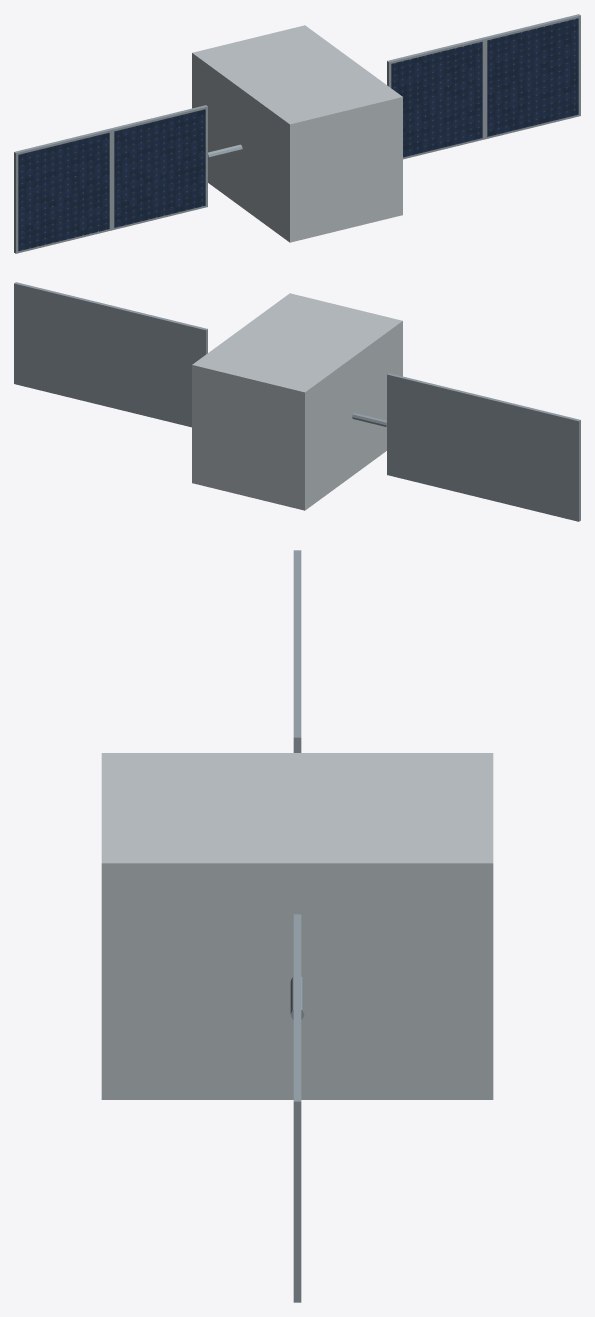
File: ref-bcp-2000-25789.glb
3 views of the same model, one above another, from view 1: azimuth 30°, elevation 25°; view 2: azimuth 150°, elevation 25°; view 3: azimuth 270°, elevation 25° (orthographic). The views are drawn at different scales.
Visible parts, largest first — view 1: Photovoltaic laminates (×4), Spacecraft body, Array frame (×4); view 2: Array frame (×4), Spacecraft body; view 3: Spacecraft body, Array frame (×2).
Boxes of the visible parts, x1,y1,x2,y2 form: Photovoltaic laminates (×4): [18, 18, 578, 251]; Spacecraft body: [192, 25, 402, 242]; Array frame (×4): [14, 14, 580, 253]; Array frame (×4): [14, 282, 580, 521]; Spacecraft body: [192, 293, 402, 510]; Spacecraft body: [101, 753, 493, 1099]; Array frame (×2): [293, 644, 301, 1302].
Bounding box in the file's own units: 10 × 2 × 3.
Materials: 3 (1 with a texture image).
